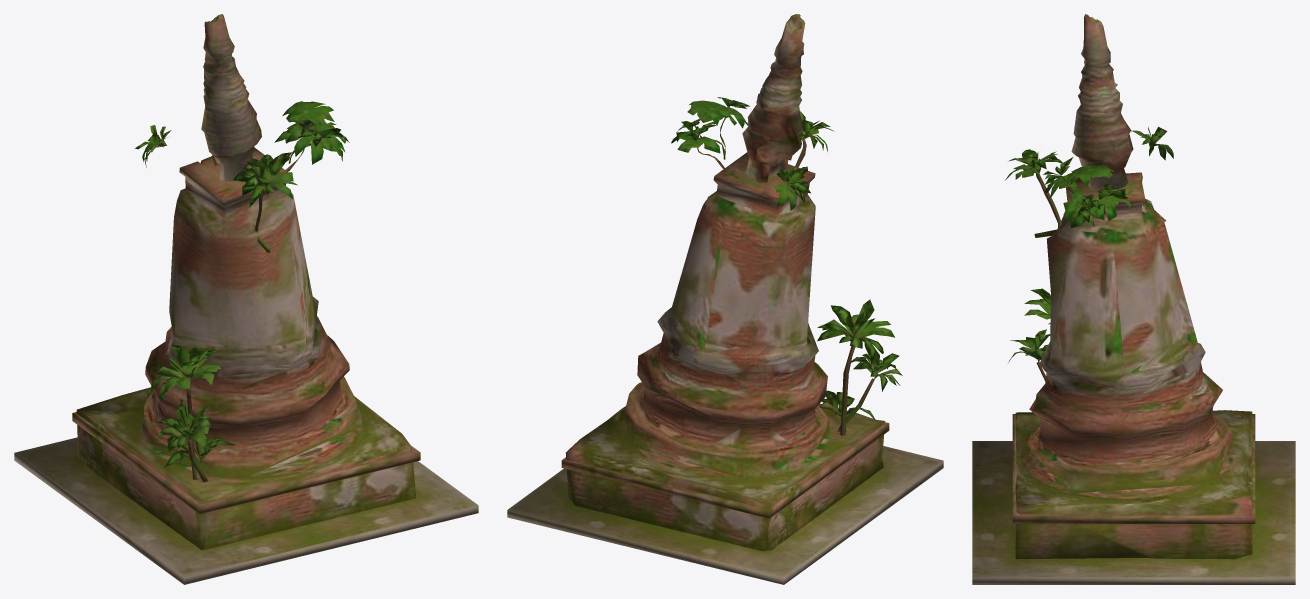
Rendered from chedi_ruin.glb.
3 views of the same model, side by side, from view 1: azimuth 30°, elevation 25°; view 2: azimuth 150°, elevation 25°; view 3: azimuth 270°, elevation 25° (orthographic). The views are drawn at different scales.
Visible parts, largest first — view 1: Body; view 2: Body; view 3: Body.
Boxes of the visible parts, x1,y1,x2,y2 form: Body: (14, 14, 478, 584); Body: (507, 14, 943, 584); Body: (972, 14, 1295, 584).
Size of the model in its own units: 8.58 by 14 by 8.58.
1 material, 1 textured.
